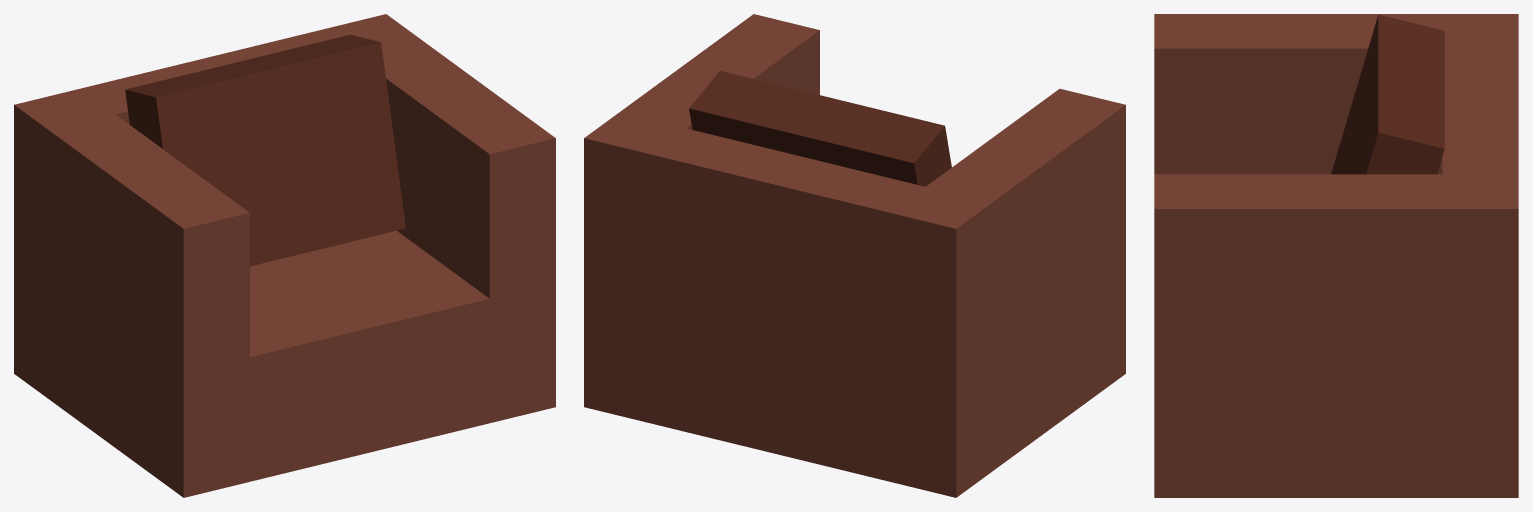
The model's file is couch2.fbx.
3 renders of one model, left to right at view 1: azimuth 30°, elevation 25°; view 2: azimuth 150°, elevation 25°; view 3: azimuth 270°, elevation 25°, orthographic. The views are drawn at different scales.
Parts seen in each view (by area): view 1: polySurface5; view 2: polySurface5; view 3: polySurface5.
Part boxes in pixels (bbox=[...]): polySurface5: bbox=[14, 14, 555, 497]; polySurface5: bbox=[584, 14, 1125, 497]; polySurface5: bbox=[1154, 14, 1518, 497].
Bounding box in the file's own units: 12.67 × 9.95 × 10.
Materials: 1 (1 with a texture image).
